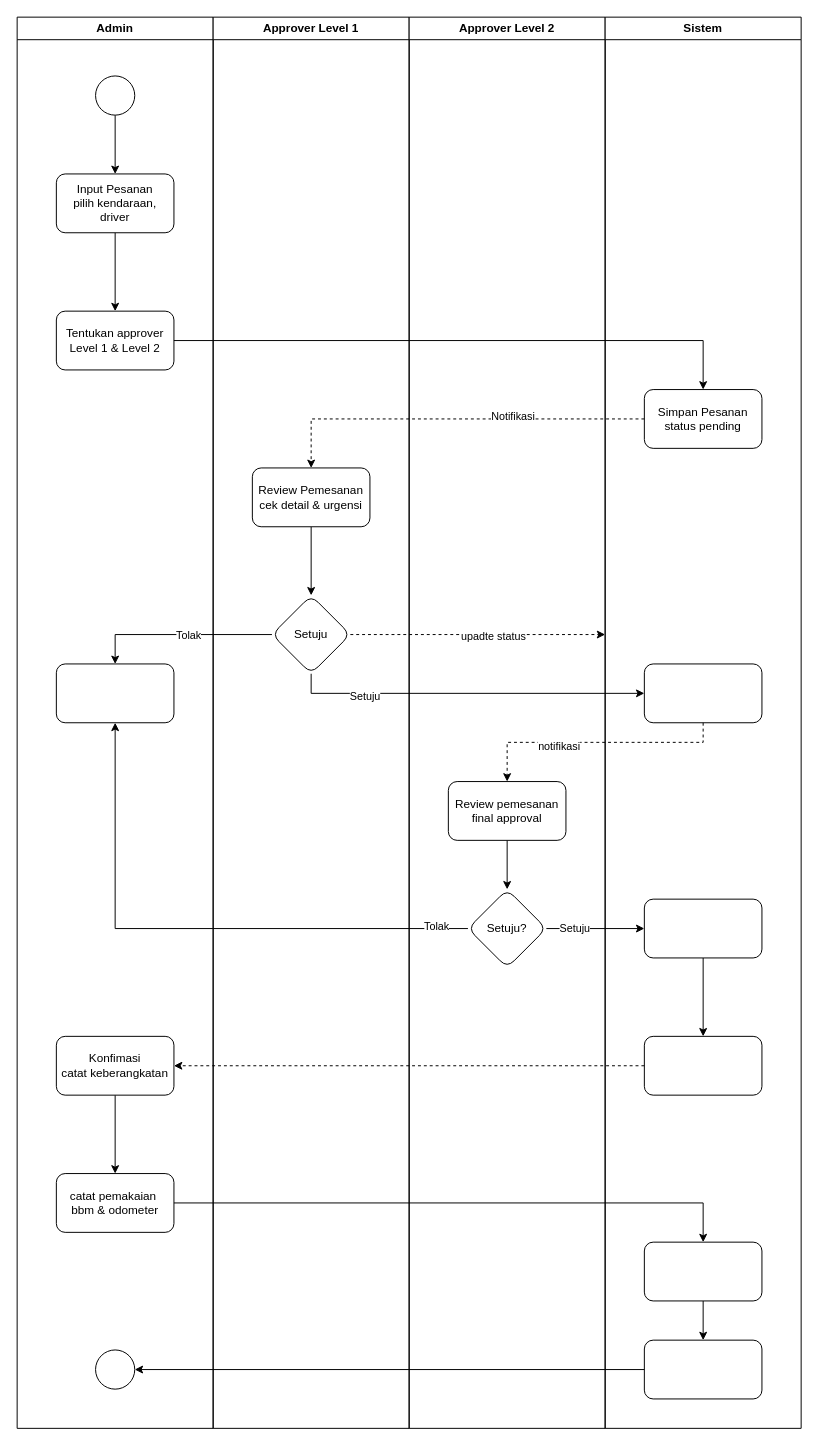
The diagram is 818 pixels wide and 1446 high, and some of its shapes have lost their labels. Each missing label, with the box of its shape:
App log dicatat disetiap proses: (643, 1339, 762, 1399)
Notif Tolak admin dapat revisi: (55, 663, 174, 723)
Notifikasi admin kendaraan siap di gunakan: (643, 1035, 762, 1095)
Notifikasi approver 2 Status approved level 1: (643, 663, 762, 723)
Update status selesai log & laporan tersimpan: (643, 1241, 762, 1301)
Update Staus staus approved: (643, 898, 762, 958)
